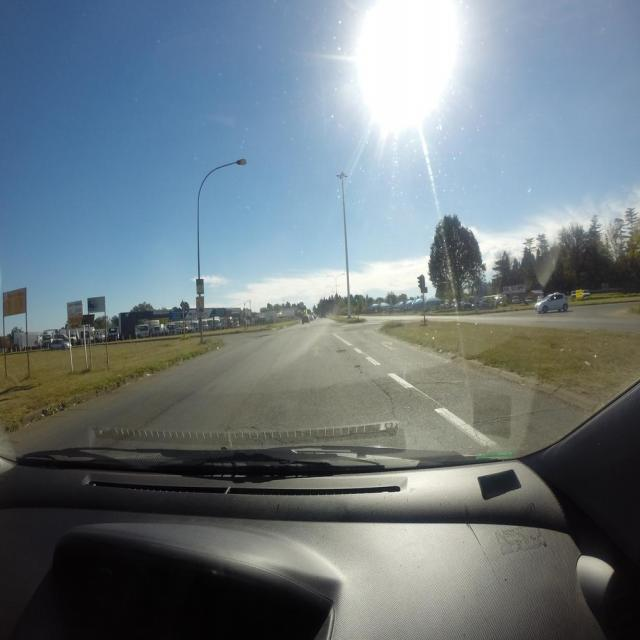Pothole: (335, 350, 346, 353), (356, 365, 360, 368)
